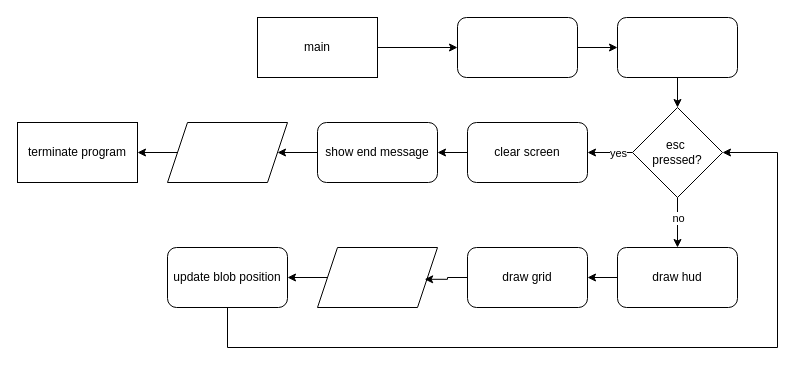
Image size: 803x373. Some labels were removed from this diagram. The shapes that lost their labels are listed below. From the top down, each one's centre as x and y in pixels, then its label:
At (517,47): "initGame".
At (677,47): "initStartingGrid".
At (227,152): "wait for input".
At (377,277): "get usr input".
